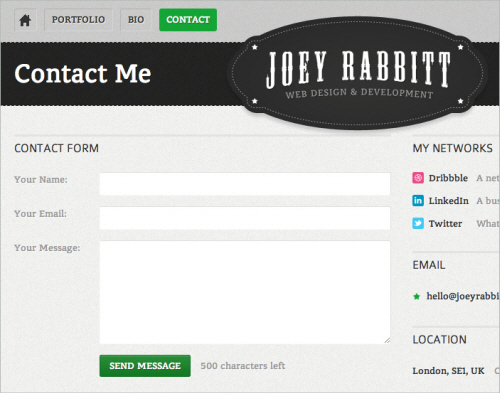_form_: (1, 1, 416, 393)
button: (99, 354, 191, 377)
field: (94, 240, 391, 346), (95, 171, 392, 199), (94, 205, 391, 232)
